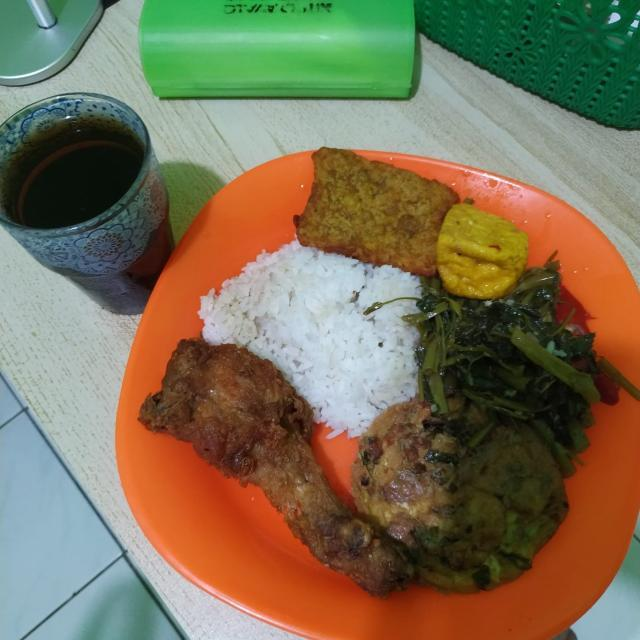ayam_goreng: (117, 306, 390, 586)
nasi_putih: (214, 216, 452, 406)
telur_ayam_dadar: (338, 381, 600, 574)
